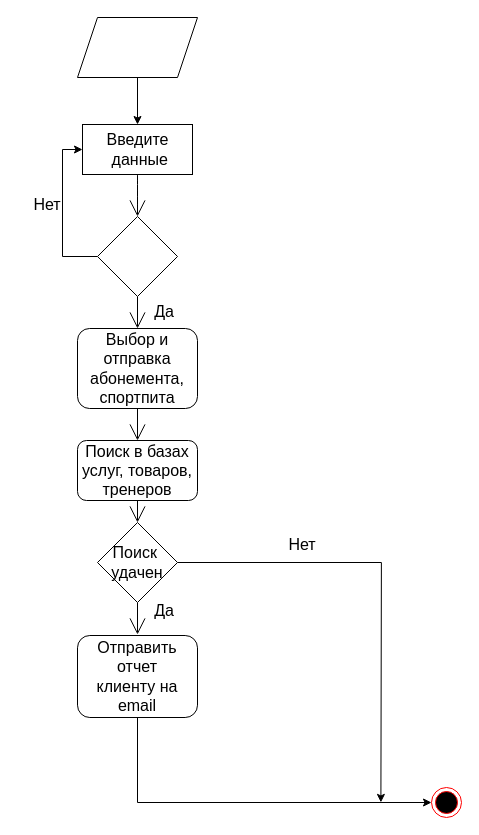
Image size: 479x835. Some labels were removed from this diagram. The shapes that lost their labels are listed below. From the top down, each one's box as (x1, y1, x2, y2) in pixels, then its label:
(76, 16, 198, 78): Вход
(96, 216, 178, 296): Данные верны?
